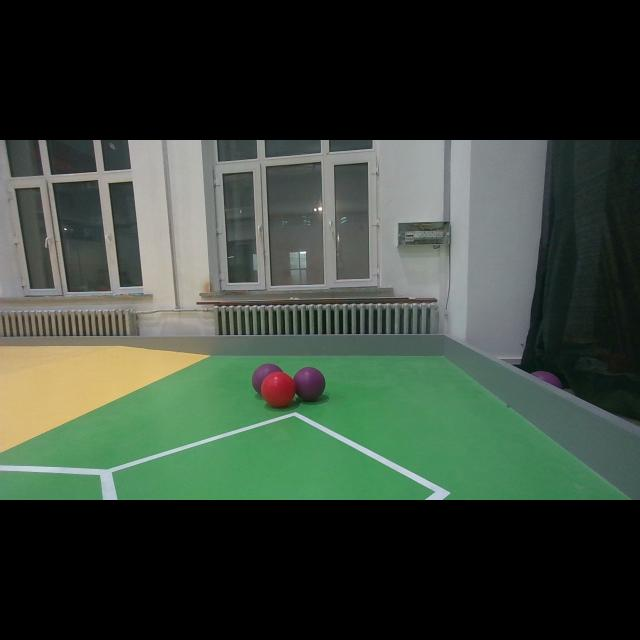P: (292, 367, 326, 401), (253, 364, 283, 394)
R: (261, 372, 295, 406)
